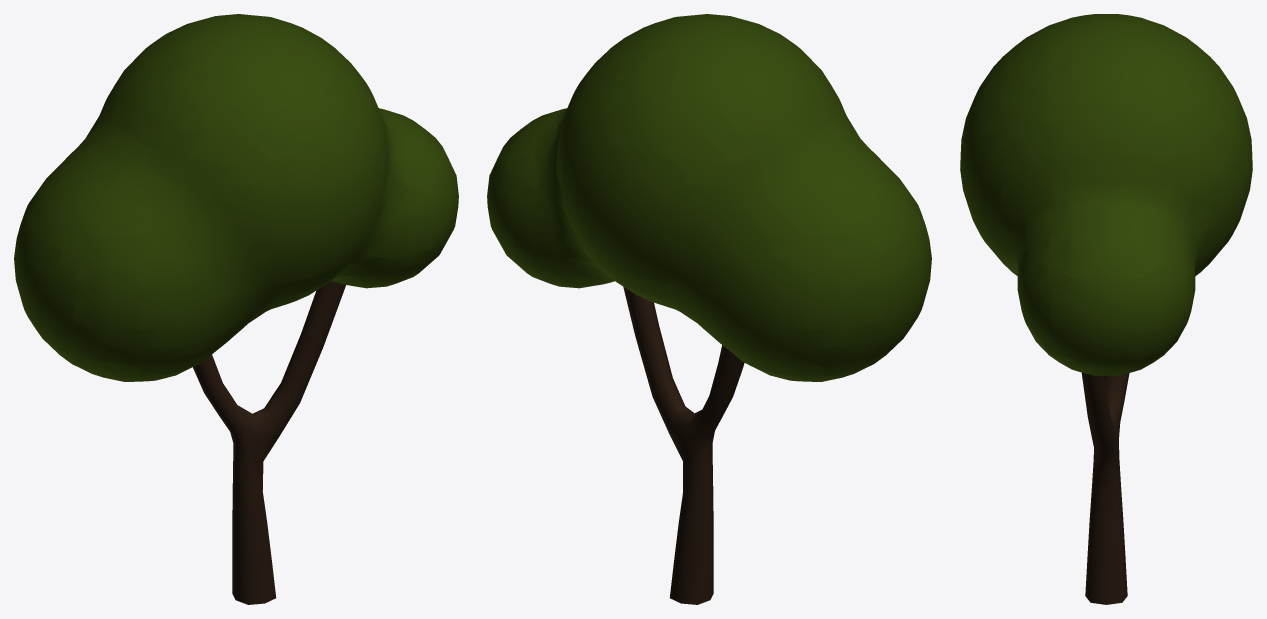
3 renders of one model, left to right at view 1: azimuth 30°, elevation 25°; view 2: azimuth 150°, elevation 25°; view 3: azimuth 270°, elevation 25°, orthographic.
Parts seen in each view (by area): view 1: Tree_3.003_Mesh.001; view 2: Tree_3.003_Mesh.001; view 3: Tree_3.003_Mesh.001.
Part boxes in pixels (bbox=[...]): Tree_3.003_Mesh.001: bbox=[14, 14, 458, 604]; Tree_3.003_Mesh.001: bbox=[487, 14, 931, 604]; Tree_3.003_Mesh.001: bbox=[960, 14, 1252, 604].
Bounding box in the file's own units: 987 × 1294 × 611.
